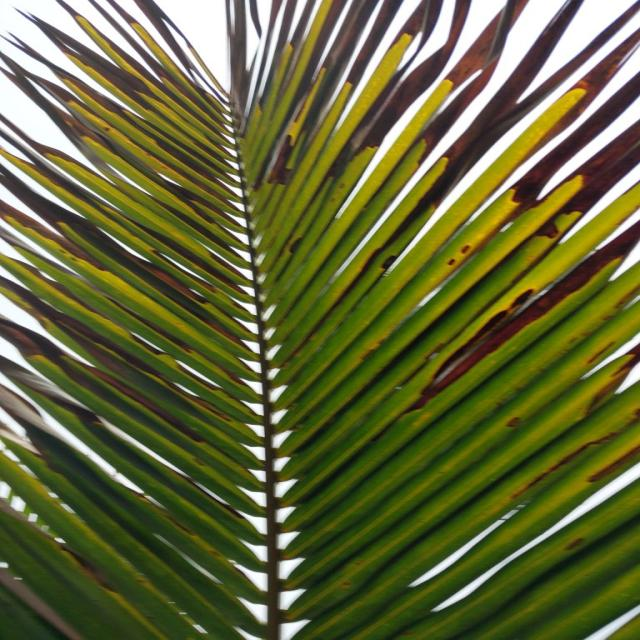gray leaf spot: (234, 6, 640, 387)
